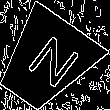N_SW: (14, 29, 78, 94)
